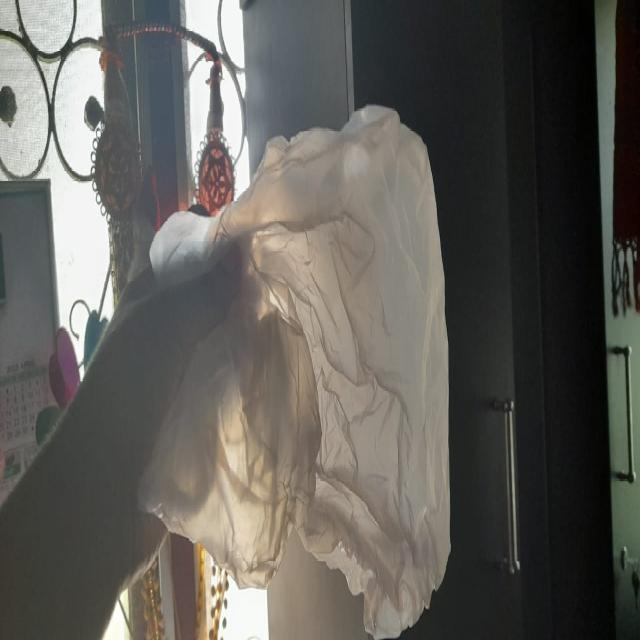Plastic - Recyclable: (116, 100, 457, 640)
